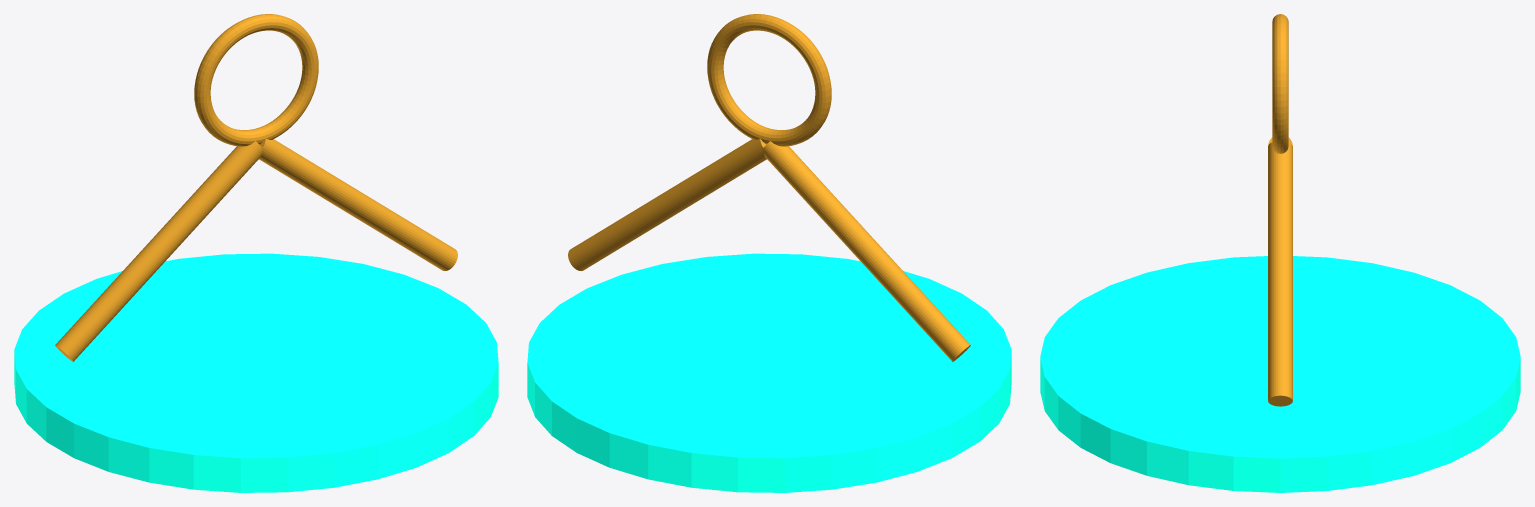
The model's file is fashion_hanger.dae.
3 views of the same model, side by side, from view 1: azimuth 30°, elevation 25°; view 2: azimuth 150°, elevation 25°; view 3: azimuth 270°, elevation 25° (orthographic).
Visible parts, largest first — view 1: 06_17_Popular_Fashion_Hanger_ROOT_base, 06_17_Popular_Fashion_Hanger_part_01, 06_17_Popular_Fashion_Hanger_part_03, 06_17_Popular_Fashion_Hanger_part_02; view 2: 06_17_Popular_Fashion_Hanger_ROOT_base, 06_17_Popular_Fashion_Hanger_part_01, 06_17_Popular_Fashion_Hanger_part_03, 06_17_Popular_Fashion_Hanger_part_02; view 3: 06_17_Popular_Fashion_Hanger_ROOT_base, 06_17_Popular_Fashion_Hanger_part_02, 06_17_Popular_Fashion_Hanger_part_03.
Part boxes in pixels (x1,y1,x2,y2): 06_17_Popular_Fashion_Hanger_ROOT_base: (14,253,498,492); 06_17_Popular_Fashion_Hanger_part_01: (55,141,262,361); 06_17_Popular_Fashion_Hanger_part_03: (194,14,318,146); 06_17_Popular_Fashion_Hanger_part_02: (259,138,457,270); 06_17_Popular_Fashion_Hanger_ROOT_base: (527,253,1011,492); 06_17_Popular_Fashion_Hanger_part_01: (763,141,970,361); 06_17_Popular_Fashion_Hanger_part_03: (707,14,831,146); 06_17_Popular_Fashion_Hanger_part_02: (568,138,766,270); 06_17_Popular_Fashion_Hanger_ROOT_base: (1040,256,1520,492); 06_17_Popular_Fashion_Hanger_part_02: (1268,142,1292,406); 06_17_Popular_Fashion_Hanger_part_03: (1272,14,1288,153).
Bounding box in the file's own units: 0.76 × 0.6471 × 0.76.
